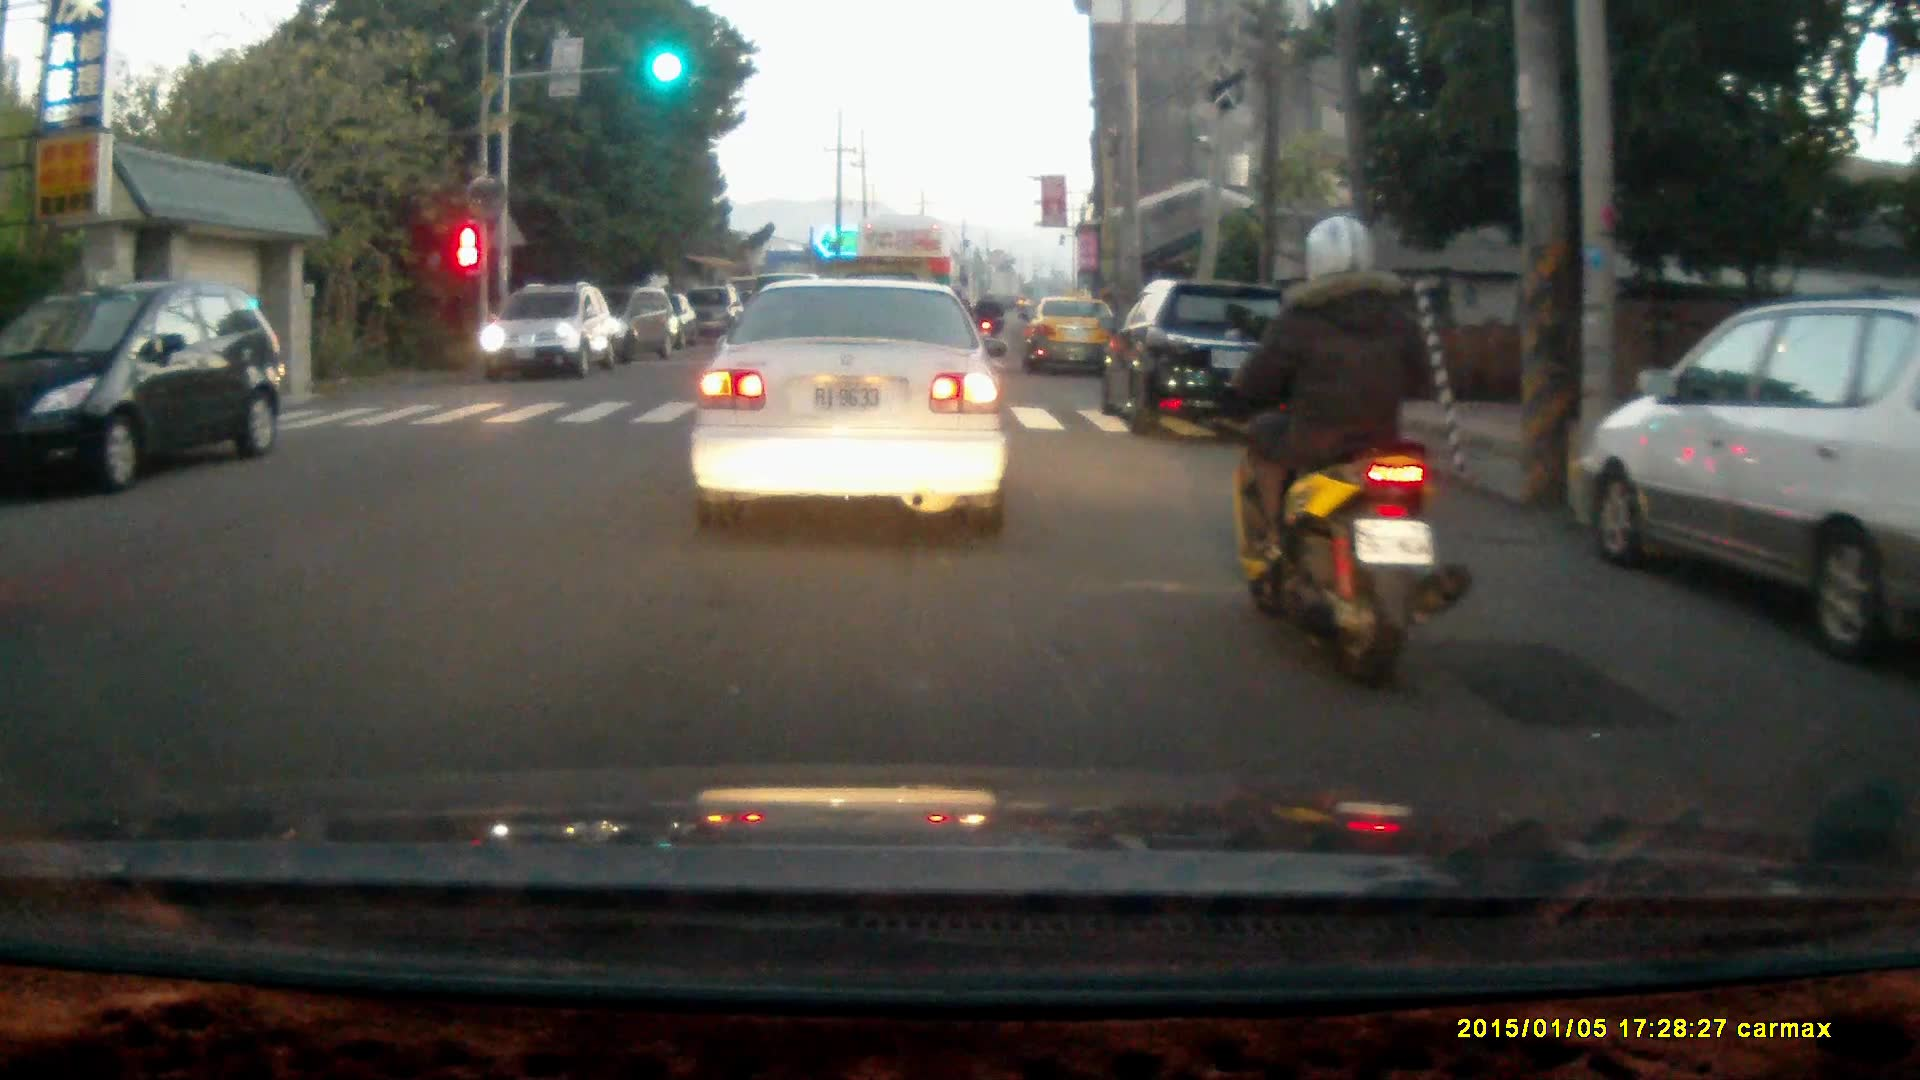rider: (1217, 213, 1475, 692)
vehicle: (1584, 295, 1920, 665), (688, 270, 1011, 535), (1, 279, 285, 508), (1095, 276, 1312, 441), (851, 213, 959, 363), (479, 285, 617, 387), (560, 281, 681, 364), (1023, 293, 1124, 380)
